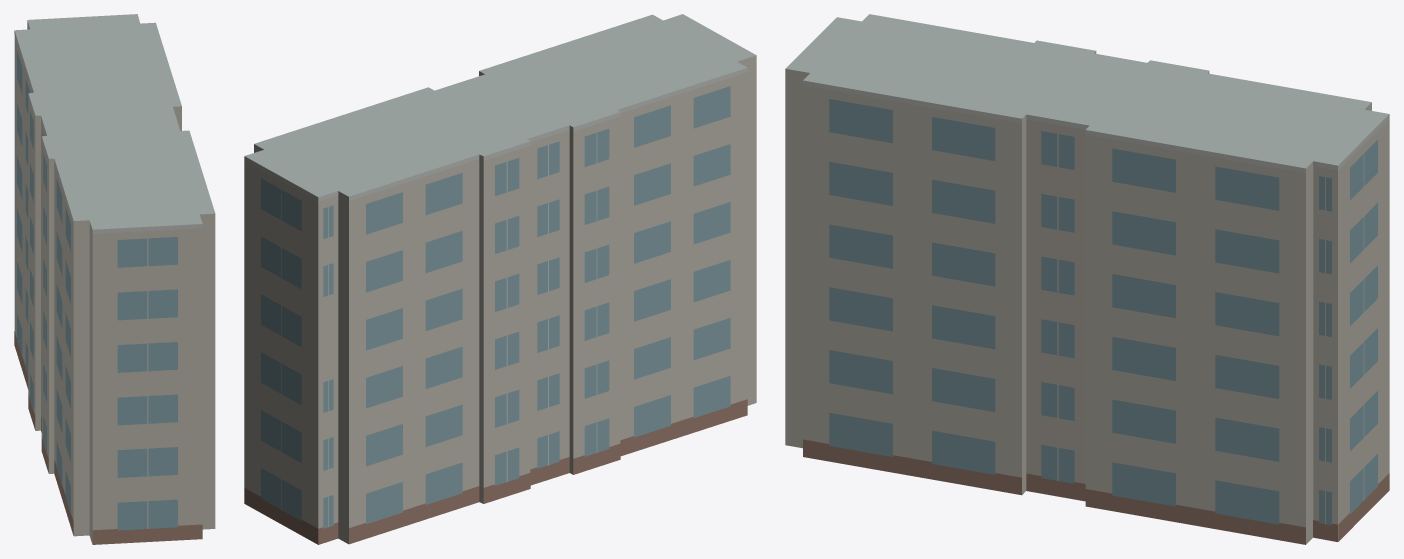
File: survey-upis-32566856.glb
3 views of the same model, side by side, from view 1: azimuth 30°, elevation 25°; view 2: azimuth 150°, elevation 25°; view 3: azimuth 270°, elevation 25° (orthographic). The views are drawn at different scales.
Parts seen in each view (by area): view 1: survey-upis-32566856.tmp; view 2: survey-upis-32566856.tmp; view 3: survey-upis-32566856.tmp.
Part boxes in pixels (left/top/right/bottom): survey-upis-32566856.tmp: left=14, top=14, right=215, bottom=544; survey-upis-32566856.tmp: left=244, top=14, right=756, bottom=544; survey-upis-32566856.tmp: left=785, top=14, right=1389, bottom=544.
Bounding box in the file's own units: 16.63 × 18.9 × 27.49.
